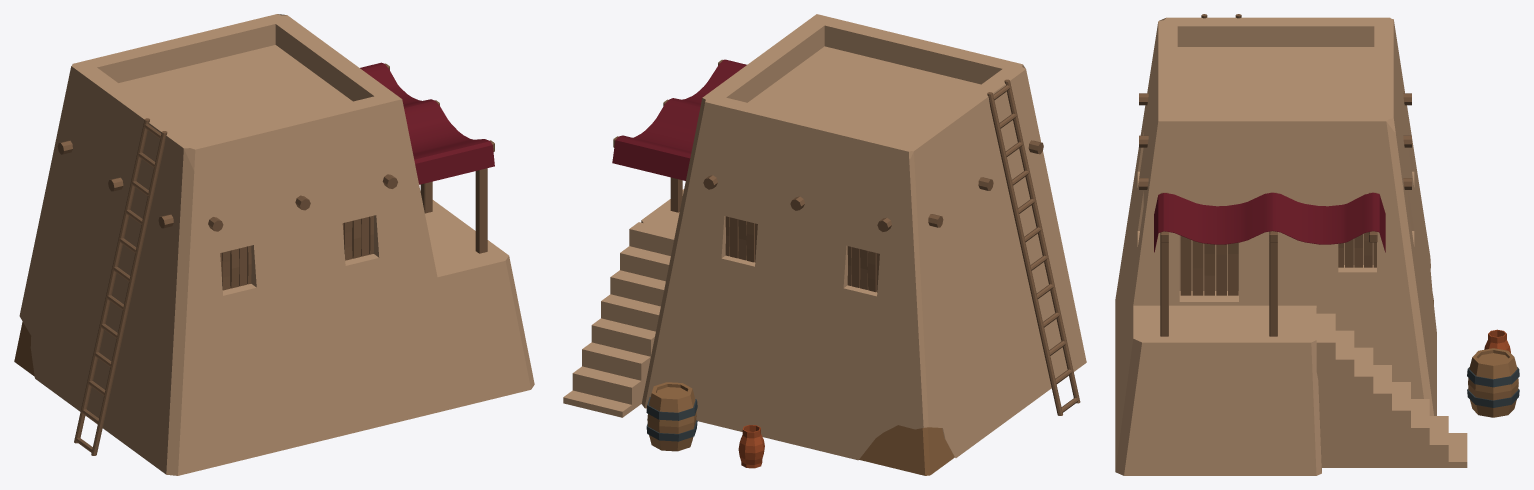
File: Desert_Village_House_4.fbx
The picture shows the model from 3 angles, left to right: view 1: azimuth 30°, elevation 25°; view 2: azimuth 150°, elevation 25°; view 3: azimuth 270°, elevation 25°; orthographic projection.
Parts seen in each view (by area): view 1: House_4_Base, House_4_Towel_Big_Roof, House_4_Stairs_to_Roof, House_4_Windows, House_4_Beams, House_4_Beams_Area; view 2: House_4_Base, House_4_Stair_Rock, House_4_Towel_Big_Roof, House_4_Stairs_to_Roof, Barrel, House_4_Windows, House_4_Beams_Area, Vase; view 3: House_4_Base, House_4_Stair_Rock, House_4_Towel_Big_Roof, Barrel, House_4_Door, House_4_Beams, House_4_Windows, House_4_Beams_Area.
Part boxes in pixels (x1,y1,x2,y2): House_4_Base: [14, 14, 534, 475]; House_4_Towel_Big_Roof: [360, 62, 494, 184]; House_4_Stairs_to_Roof: [74, 118, 167, 455]; House_4_Windows: [220, 215, 373, 290]; House_4_Beams: [385, 63, 494, 253]; House_4_Beams_Area: [57, 140, 397, 231]; House_4_Base: [641, 14, 1086, 475]; House_4_Stair_Rock: [563, 222, 675, 417]; House_4_Towel_Big_Roof: [612, 59, 746, 180]; House_4_Stairs_to_Roof: [987, 79, 1080, 415]; Barrel: [646, 382, 697, 451]; House_4_Windows: [725, 216, 879, 292]; House_4_Beams_Area: [703, 140, 1043, 231]; Vase: [738, 424, 764, 468]; House_4_Base: [1115, 17, 1436, 475]; House_4_Stair_Rock: [1316, 313, 1467, 467]; House_4_Towel_Big_Roof: [1154, 192, 1385, 252]; Barrel: [1467, 348, 1519, 417]; House_4_Door: [1180, 236, 1238, 295]; House_4_Beams: [1160, 192, 1377, 336]; House_4_Windows: [1338, 232, 1376, 267]; House_4_Beams_Area: [1139, 93, 1411, 189].
Size of the model in its own units: 980 by 711 by 859.
